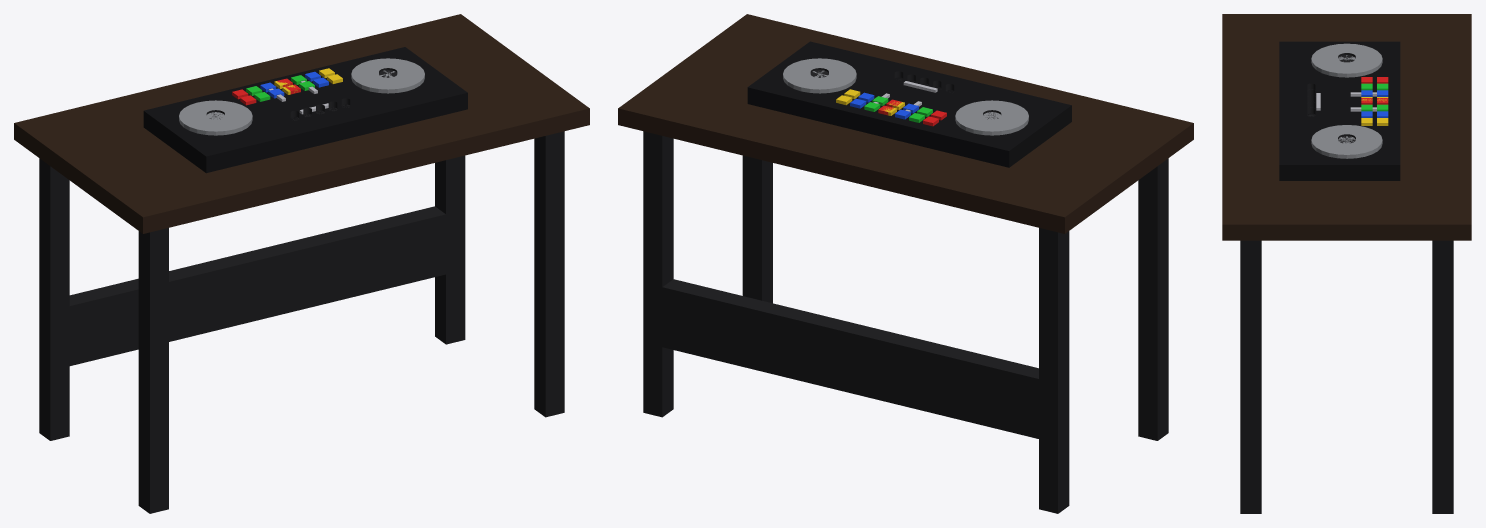
File: dj_table.obj
3 renders of one model, left to right at view 1: azimuth 30°, elevation 25°; view 2: azimuth 150°, elevation 25°; view 3: azimuth 270°, elevation 25°, orthographic. The views are drawn at different scales.
Parts seen in each view (by area): view 1: dj_table; view 2: dj_table; view 3: dj_table.
Part boxes in pixels (x1,y1,x2,y2): dj_table: (14, 14, 589, 513); dj_table: (618, 14, 1193, 513); dj_table: (1222, 14, 1471, 513).
Bounding box in the file's own units: 1.4 × 0.988 × 0.7.
